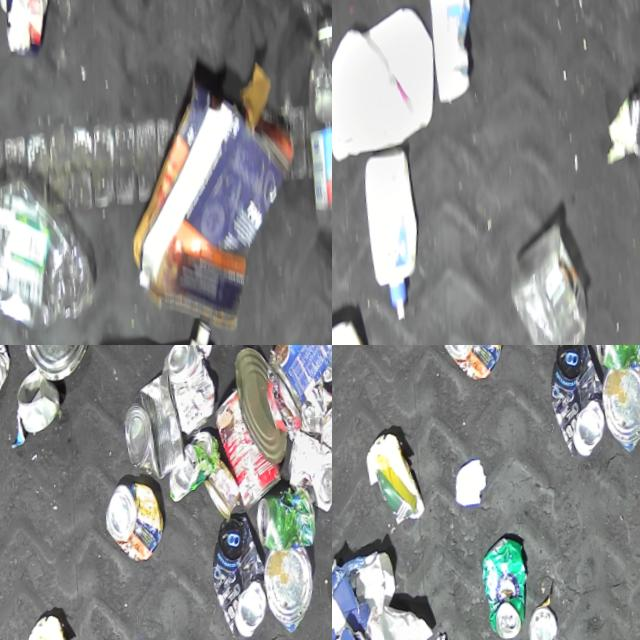can: (209, 384, 292, 515), (206, 515, 279, 640), (118, 368, 194, 487), (544, 345, 617, 464), (230, 345, 295, 470), (480, 536, 540, 640), (102, 479, 172, 568), (158, 345, 222, 440), (262, 547, 324, 640), (258, 345, 332, 417), (253, 487, 321, 559), (283, 427, 332, 521), (165, 430, 226, 505), (608, 70, 640, 191), (13, 364, 67, 435), (600, 366, 640, 459), (17, 345, 100, 388), (202, 460, 247, 524), (440, 345, 510, 386), (591, 345, 640, 378), (532, 606, 567, 640), (318, 345, 332, 387)
milk_jug: (332, 12, 437, 178)
plastic_bottle: (0, 177, 106, 337), (290, 15, 332, 244)
